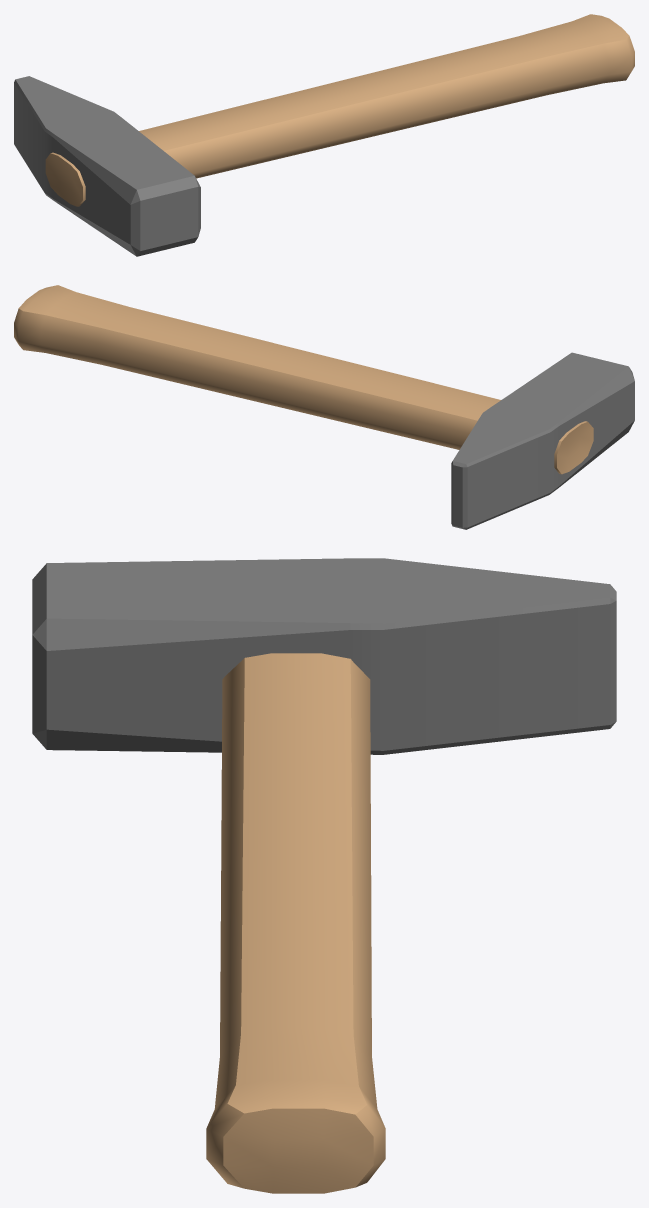
The model's file is Hammer.fbx.
3 renders of one model, top to bottom at view 1: azimuth 30°, elevation 25°; view 2: azimuth 150°, elevation 25°; view 3: azimuth 270°, elevation 25°, orthographic. The views are drawn at different scales.
Parts seen in each view (by area): view 1: Box001, Box002; view 2: Box001, Box002; view 3: Box002, Box001.
Boxes of the visible parts, x1,y1,x2,y2 form: Box001: [45, 14, 634, 206]; Box002: [14, 76, 200, 256]; Box001: [14, 285, 593, 474]; Box002: [451, 352, 634, 529]; Box002: [32, 558, 616, 754]; Box001: [206, 653, 385, 1193].
Bounding box in the file's own units: 918 × 427 × 106.
